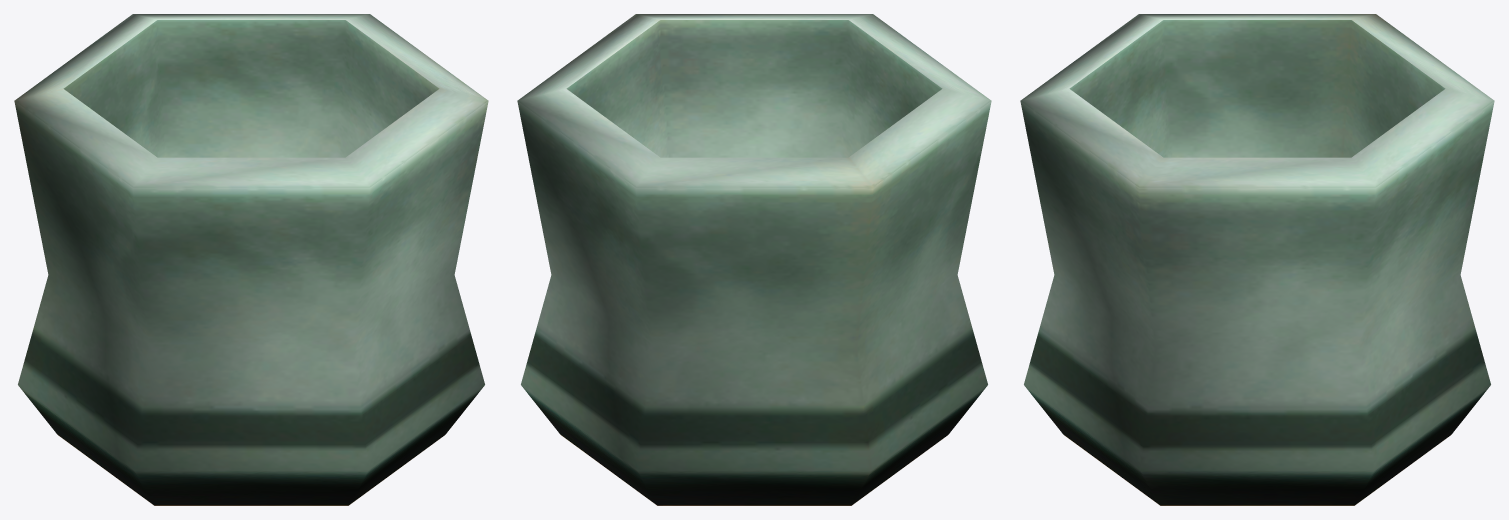
Rendered from barbershop_shavecup.obj.
3 views of the same model, side by side, from view 1: azimuth 30°, elevation 25°; view 2: azimuth 150°, elevation 25°; view 3: azimuth 270°, elevation 25° (orthographic).
Visible parts, largest first — view 1: barbershop_shavecup; view 2: barbershop_shavecup; view 3: barbershop_shavecup.
Part boxes in pixels (bbox=[...]): barbershop_shavecup: bbox=[14, 14, 488, 505]; barbershop_shavecup: bbox=[517, 14, 991, 505]; barbershop_shavecup: bbox=[1020, 14, 1494, 505].
Bounding box in the file's own units: 0.2218 × 0.2063 × 0.2561.
Materials: 1 (1 with a texture image).
